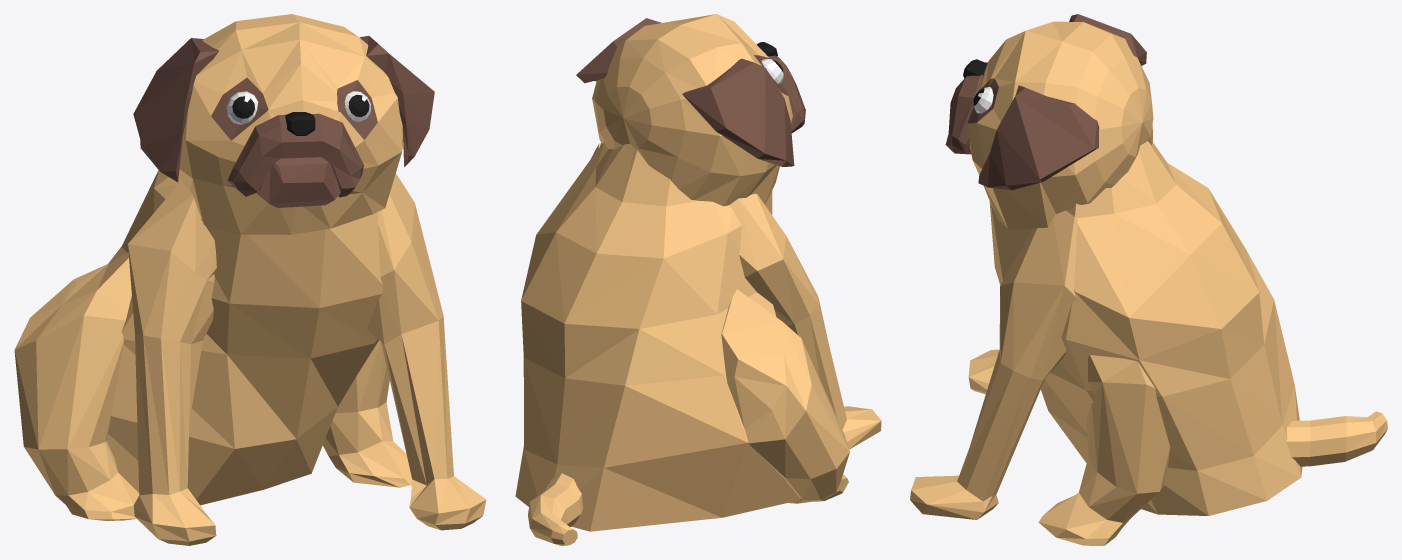
Rendered from Pug.obj.
3 views of the same model, side by side, from view 1: azimuth 30°, elevation 25°; view 2: azimuth 150°, elevation 25°; view 3: azimuth 270°, elevation 25° (orthographic). The views are drawn at different scales.
Visible parts, largest first — view 1: mesh2117380446; view 2: mesh2117380446; view 3: mesh2117380446.
Part boxes in pixels (box(x1,y1,x2,y2)): mesh2117380446: box(14, 14, 486, 545); mesh2117380446: box(515, 14, 881, 545); mesh2117380446: box(910, 14, 1387, 545).
Bounding box in the file's own units: 0.7761 × 1.05 × 0.9974.
